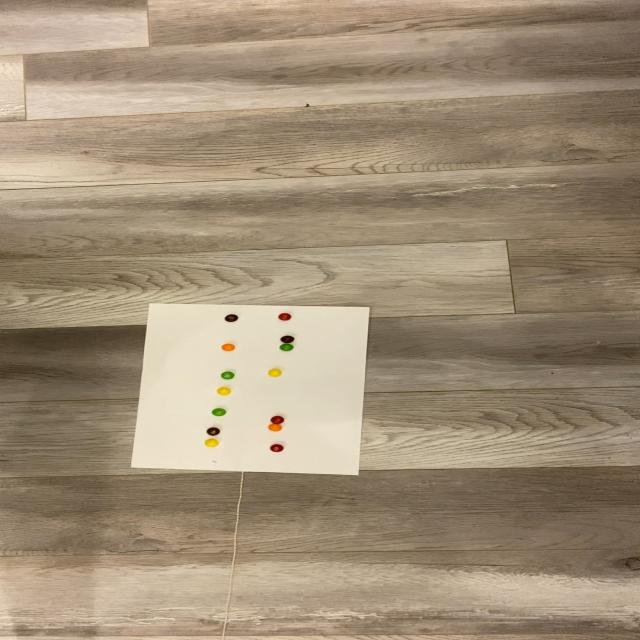smartie: (211, 408, 226, 417), (216, 387, 231, 396), (206, 427, 220, 436), (267, 369, 281, 378), (204, 439, 218, 448), (278, 344, 293, 352), (270, 444, 283, 453), (225, 314, 239, 322), (280, 335, 294, 343), (278, 313, 292, 321), (270, 416, 284, 424), (220, 371, 234, 379), (221, 344, 235, 351), (267, 424, 281, 431)
